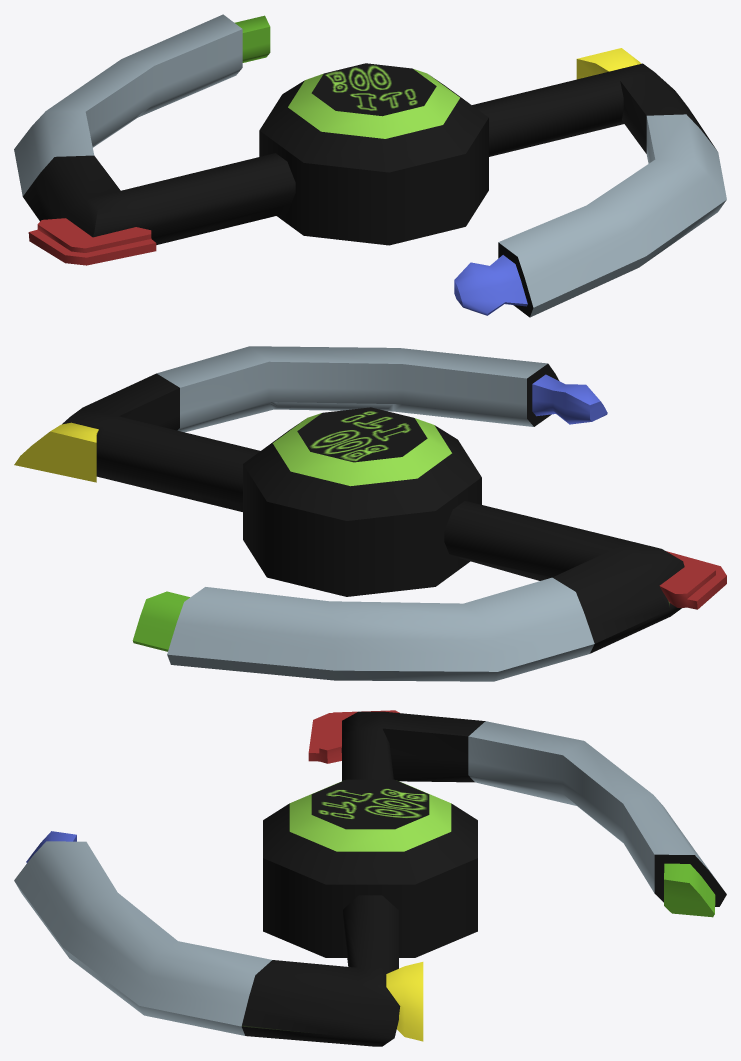
Rendered from bop_it.fbx.
3 renders of one model, top to bottom at view 1: azimuth 30°, elevation 25°; view 2: azimuth 150°, elevation 25°; view 3: azimuth 270°, elevation 25°, orthographic. The views are drawn at different scales.
Visible parts, largest first — view 1: Cylinder.005; view 2: Cylinder.005; view 3: Cylinder.005.
Boxes of the visible parts, x1,y1,x2,y2 form: Cylinder.005: (14,14,726,317); Cylinder.005: (14,346,726,681); Cylinder.005: (14,710,726,1046).
Bounding box in the file's own units: 640 × 102 × 612.
1 material, 1 textured.
